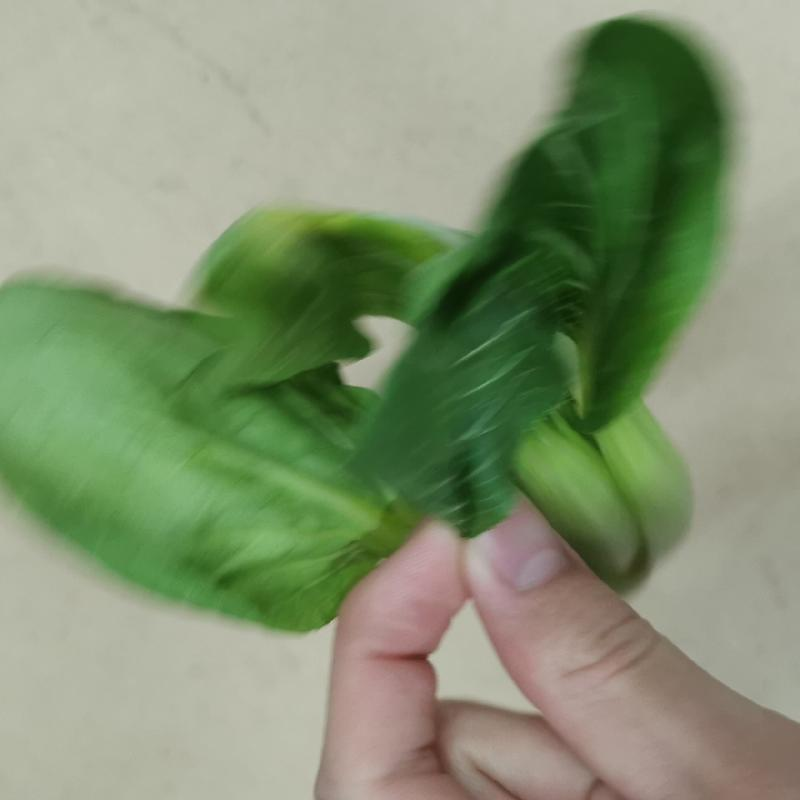green vegatable: (1, 14, 704, 611)
